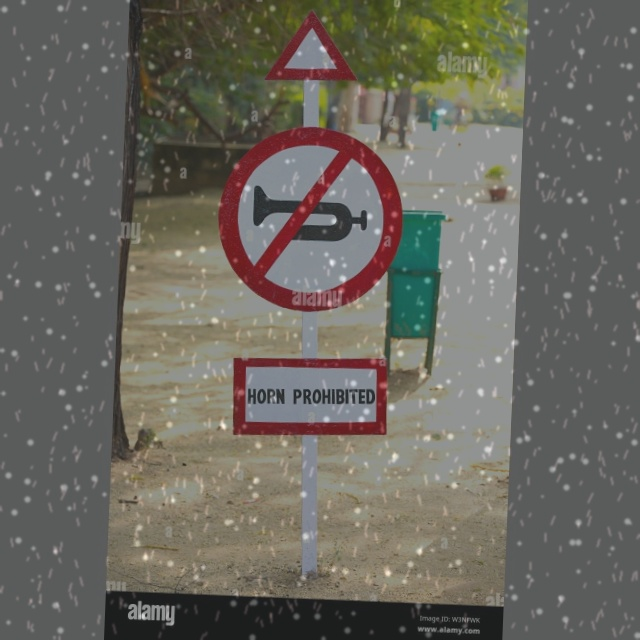Horn_Prohibited: (220, 125, 402, 317)
